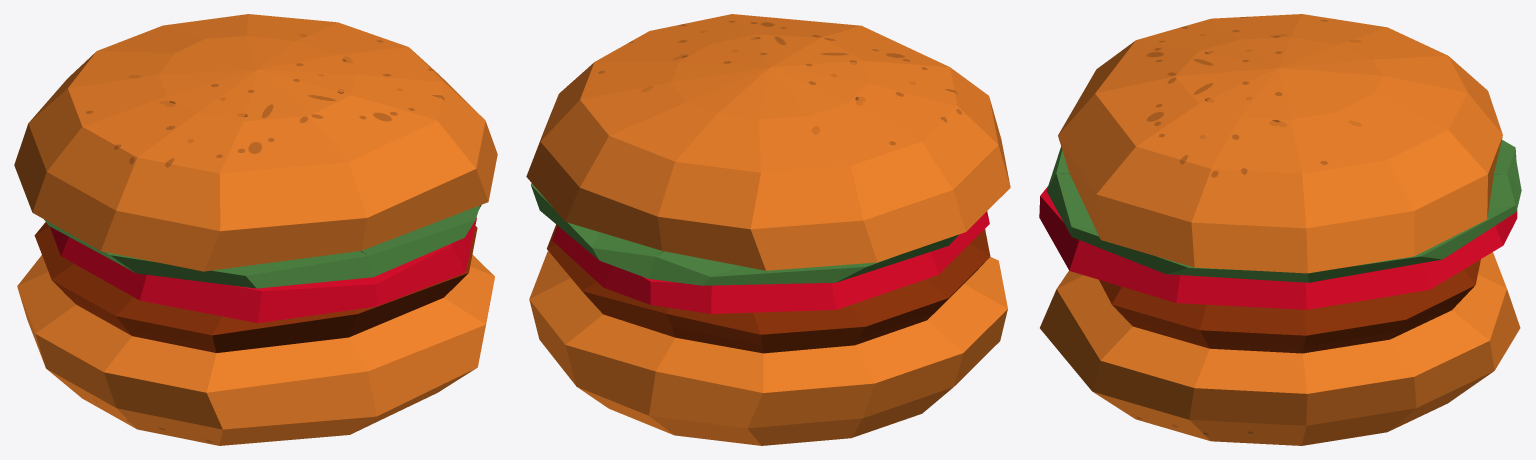
Rendered from hamburger oyuncak.fbx.
3 renders of one model, left to right at view 1: azimuth 30°, elevation 25°; view 2: azimuth 150°, elevation 25°; view 3: azimuth 270°, elevation 25°, orthographic.
Parts seen in each view (by area): view 1: Sphere; view 2: Sphere; view 3: Sphere.
Boxes of the visible parts, left/top/right/bottom form: Sphere: left=14, top=14, right=497, bottom=445; Sphere: left=526, top=14, right=1010, bottom=445; Sphere: left=1039, top=14, right=1521, bottom=445.
Bounding box in the file's own units: 199 × 146 × 197.
Materials: 1 (1 with a texture image).
